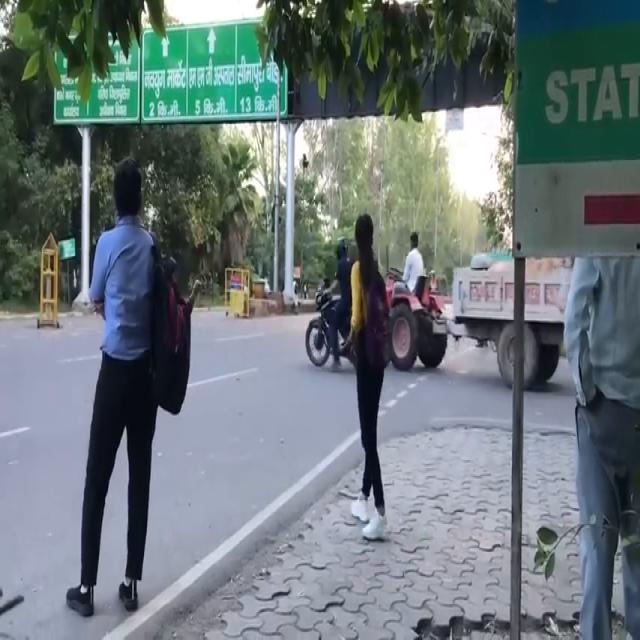MOTORCYCLE: (308, 285, 358, 374)
